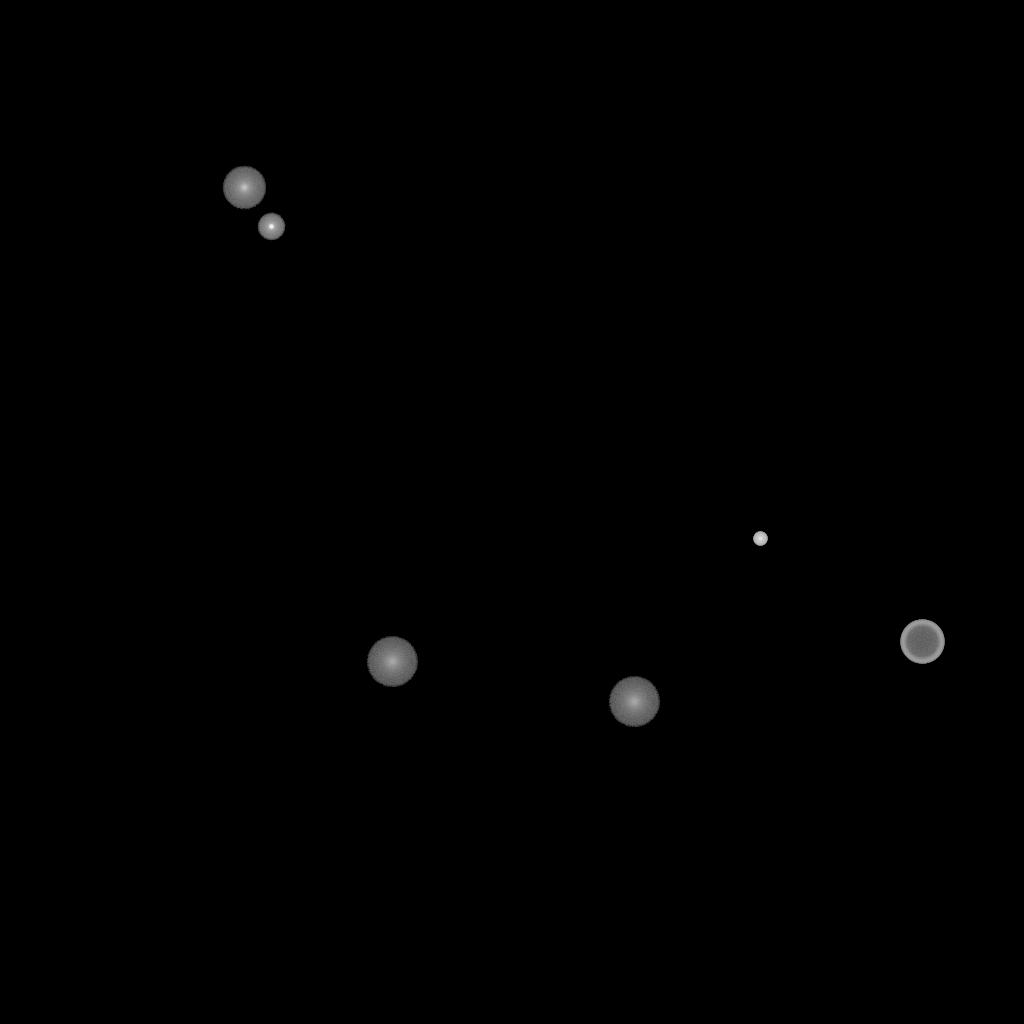depth:-10: (257, 213, 285, 241)
depth:-30: (753, 532, 767, 546)
depth:-70: (900, 620, 944, 664)
depth:10: (222, 166, 266, 210)
depth:20: (366, 637, 418, 687), (608, 677, 660, 727)
